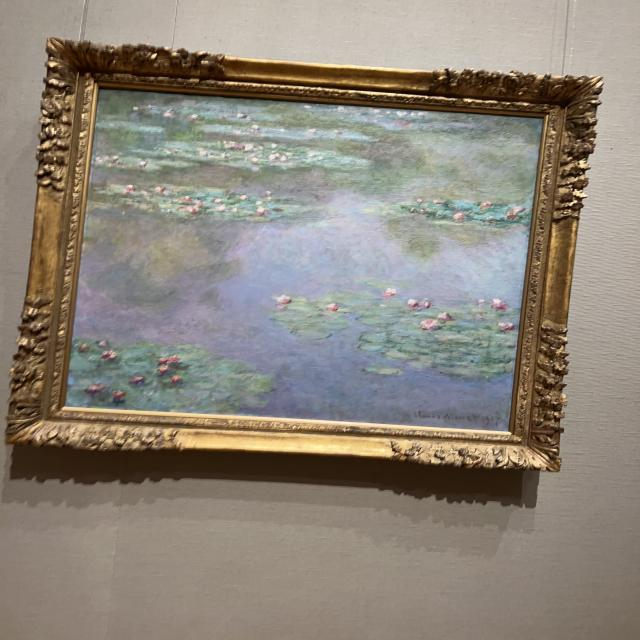lilies: (68, 87, 540, 425)
